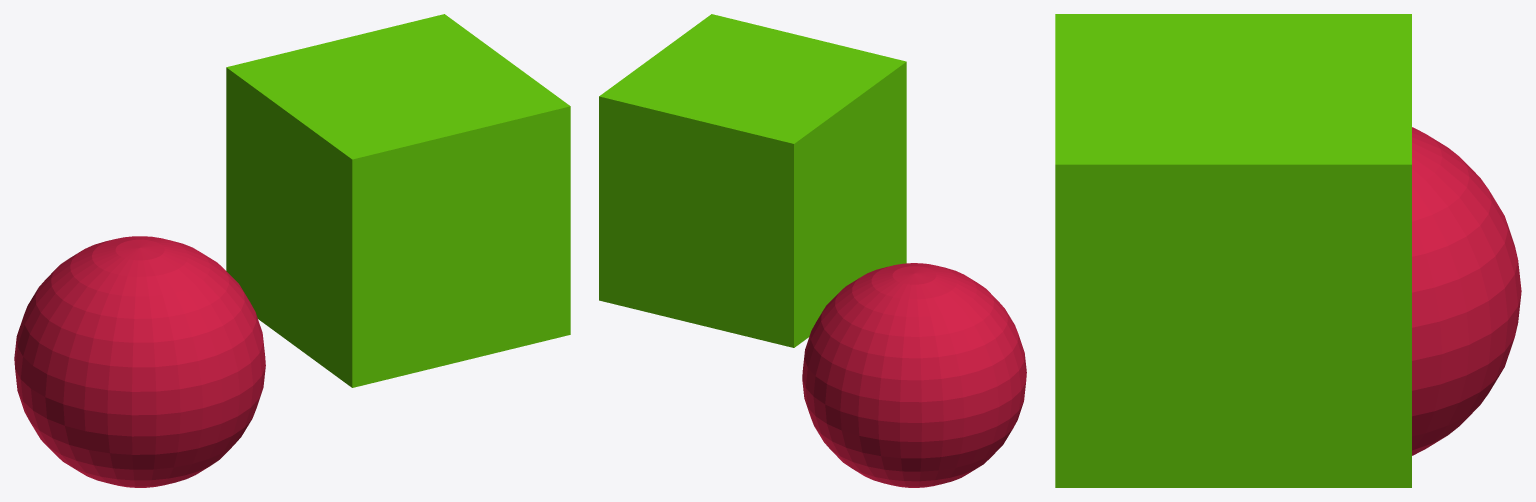
The model's file is moveCube.dae.
3 renders of one model, left to right at view 1: azimuth 30°, elevation 25°; view 2: azimuth 150°, elevation 25°; view 3: azimuth 270°, elevation 25°, orthographic. The views are drawn at different scales.
Visible parts, largest first — view 1: Cube, Sphere; view 2: Cube, Sphere; view 3: Cube, Sphere.
Part boxes in pixels (x1,y1,x2,y2): Cube: [226, 14, 570, 387]; Sphere: [14, 236, 265, 487]; Cube: [599, 14, 906, 347]; Sphere: [802, 263, 1026, 487]; Cube: [1055, 14, 1411, 487]; Sphere: [1412, 127, 1521, 455].
Size of the model in its own units: 4.01 by 2.61 by 3.19.
